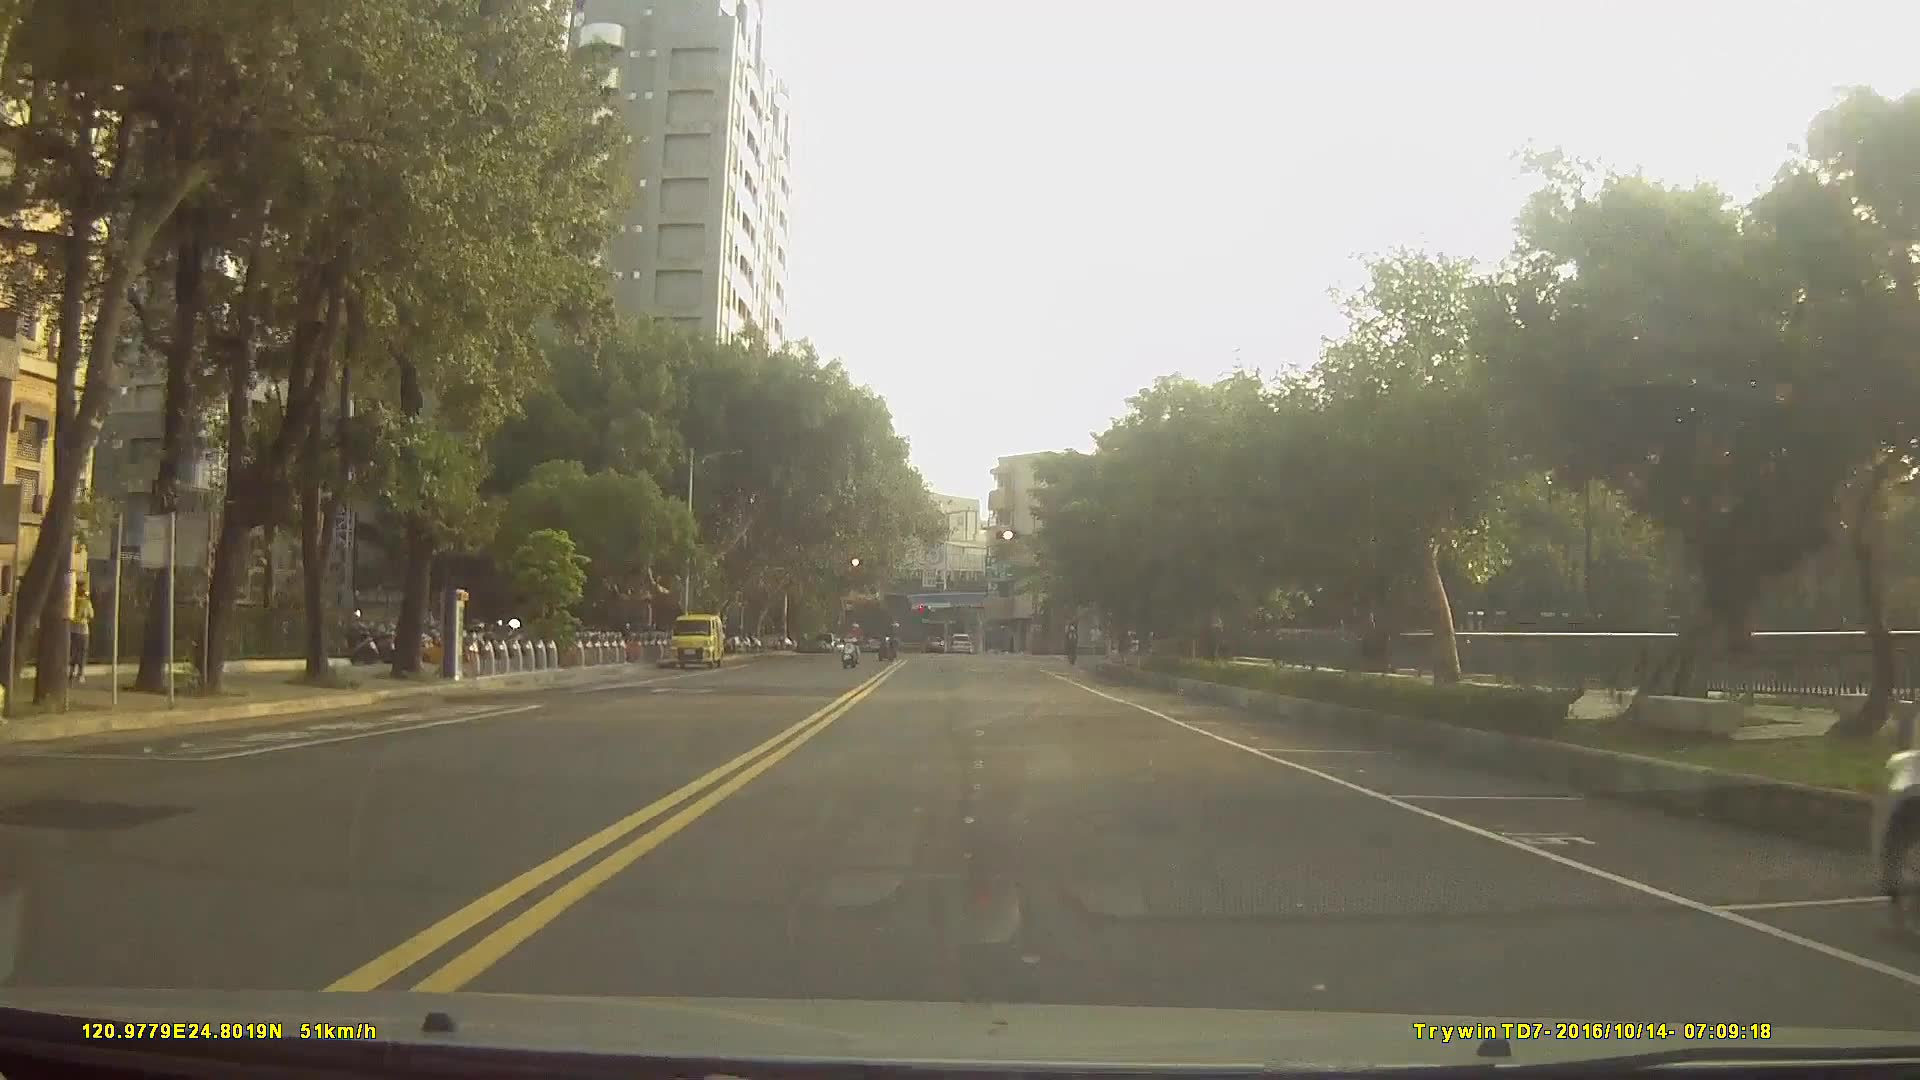pedestrian: (1086, 618, 1106, 659)
rider: (838, 618, 869, 669), (877, 617, 903, 662)
vehicle: (943, 629, 974, 653)
